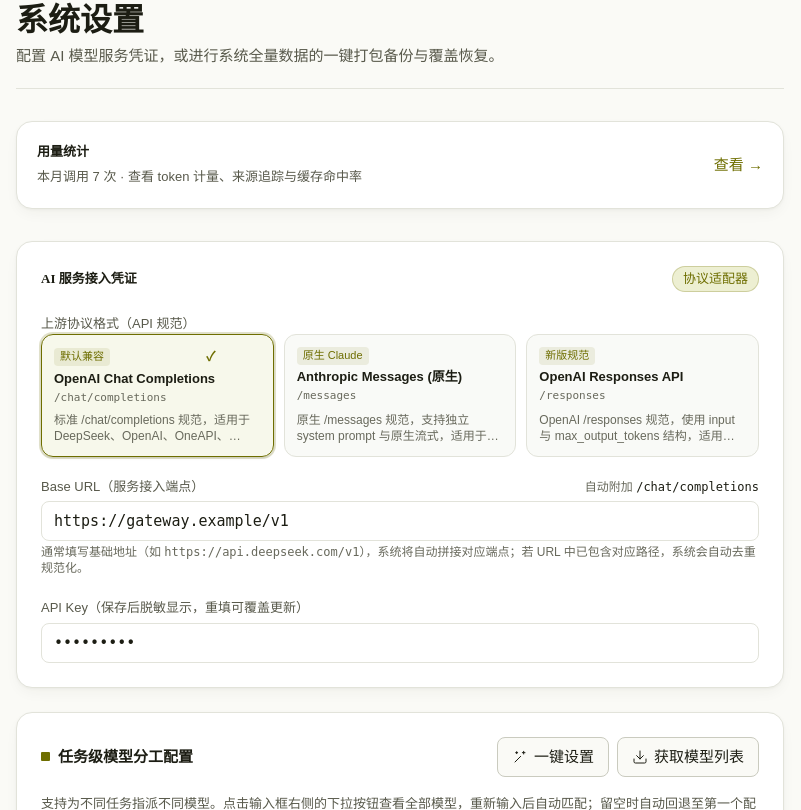
it: 设置页配置与连接行为 › 模型列表和连接测试使用当前未保存的配置，候选选择和连接反馈仍可用
This screenshot has width=801, height=810.
Expected: the button "获取模型列表" is shown, left=617, top=737, right=759, bottom=777
Type "unsaved-api-key" into the password field with placeholder "sk-…".
click(400, 643); type("unsaved-api-key")  # box left=41, top=623, right=759, bottom=663
Click the button "获取模型列表".
click(688, 757)  # box left=617, top=737, right=759, bottom=777
(page scrolled)
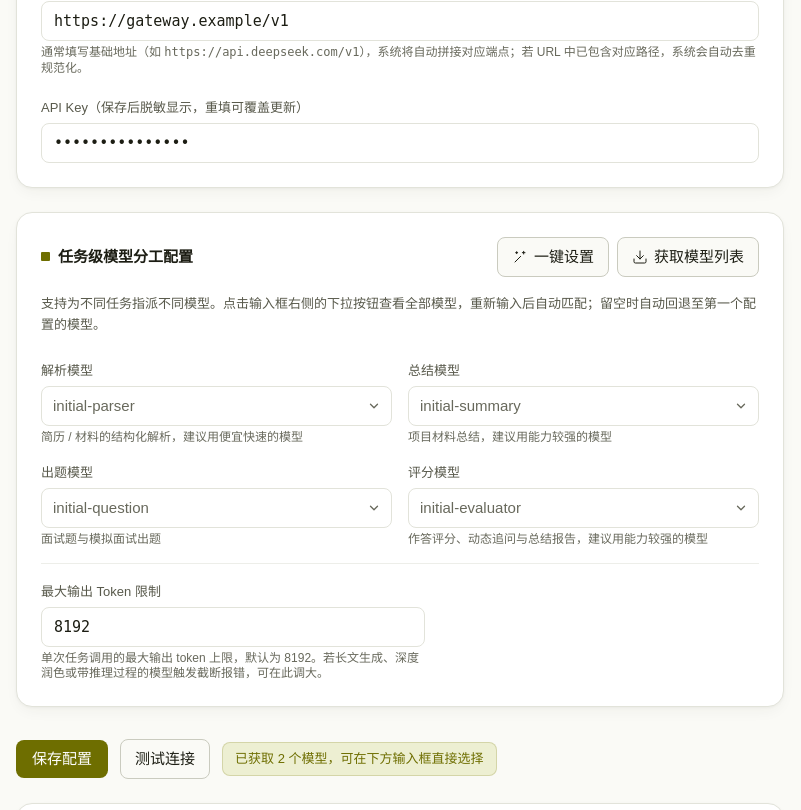
Now the text "已获取 2 个模型，可在下方输入框直接选择" is shown, box left=222, top=742, right=496, bottom=776
Click the button named "展开全部候选" in the row of "initial-parser".
click(374, 406)  # box left=356, top=386, right=392, bottom=426
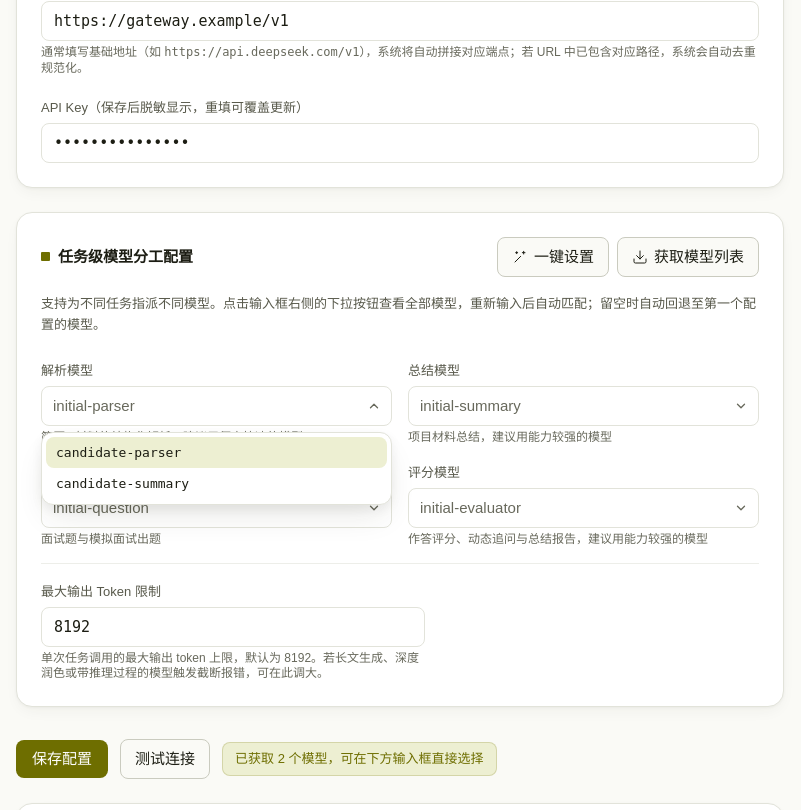
Click the option "candidate-parser".
click(119, 452)  # box left=46, top=437, right=387, bottom=468
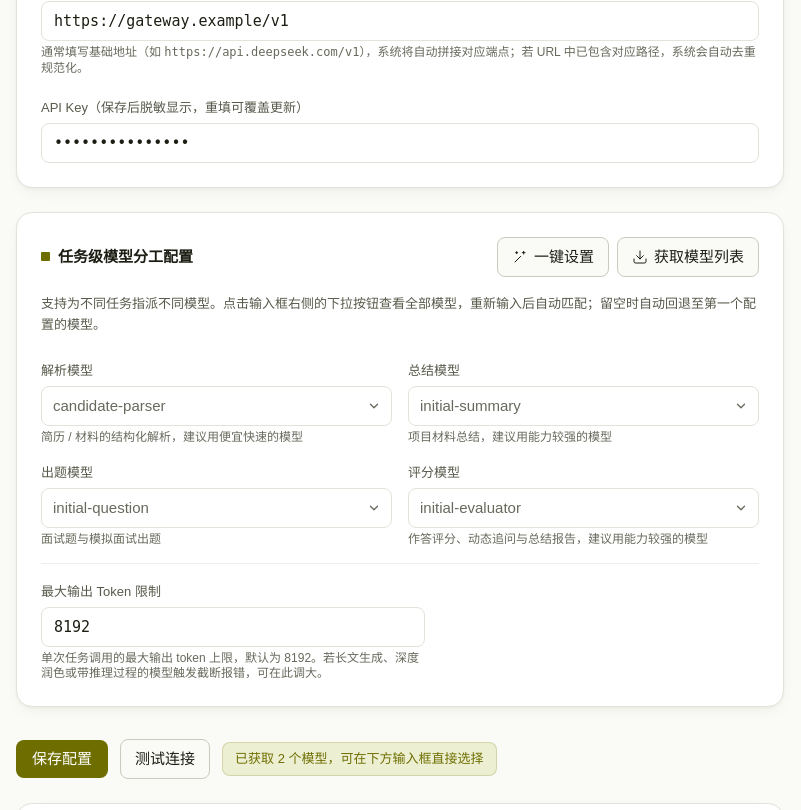
Expected: the dropdown labelled "解析模型 candidate-parser 简历 / 材料的结构化解析，建议用便宜快速的模型" is empty, left=41, top=386, right=392, bottom=426
Now the text "candidate-parser" is shown, box left=53, top=395, right=166, bottom=417
// 重新打开下拉：当前已选模型带 ✔；输入过滤时打勾保持在已选项上
Click the button named "展开全部候选" in the row of "candidate-parser".
click(374, 406)  # box left=356, top=386, right=392, bottom=426
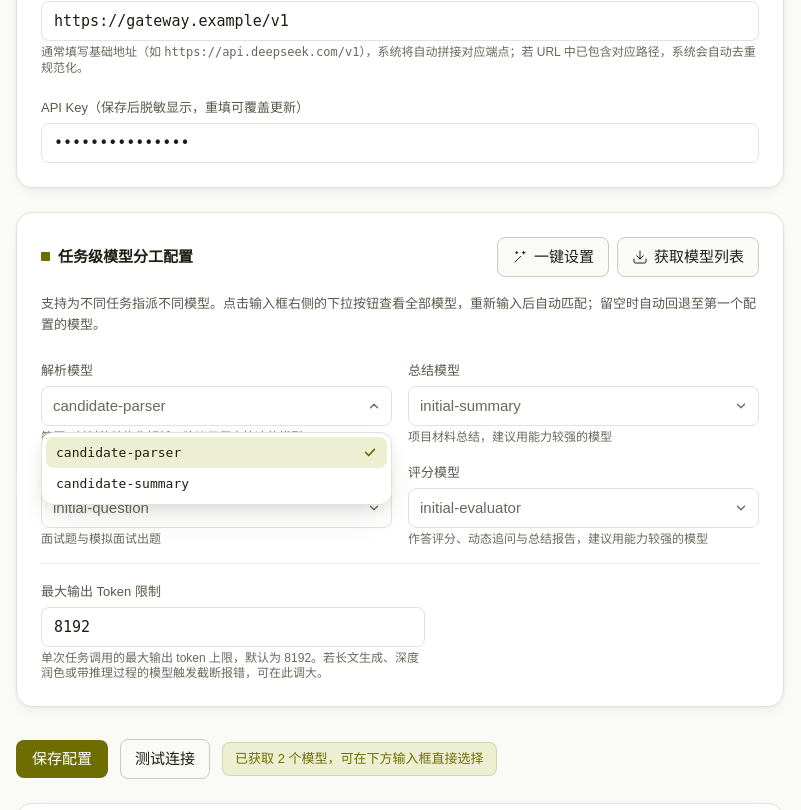
Now the option "candidate-parser" is shown, box left=46, top=437, right=387, bottom=468
Type "cand" into the dropdown named "候选模型".
click(216, 406); type("cand")  # box left=41, top=386, right=392, bottom=426
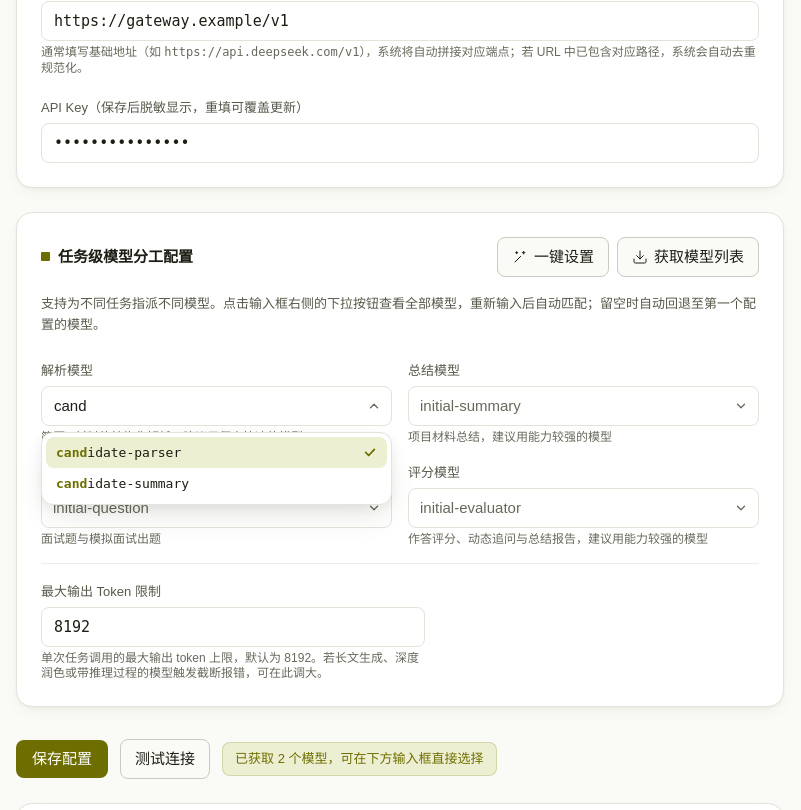
Now the option "candidate-parser" is shown, box left=46, top=437, right=387, bottom=468
Now the option "candidate-summary" is shown, box left=46, top=468, right=387, bottom=500
Click the button "测试连接".
click(165, 759)  # box left=120, top=739, right=210, bottom=779
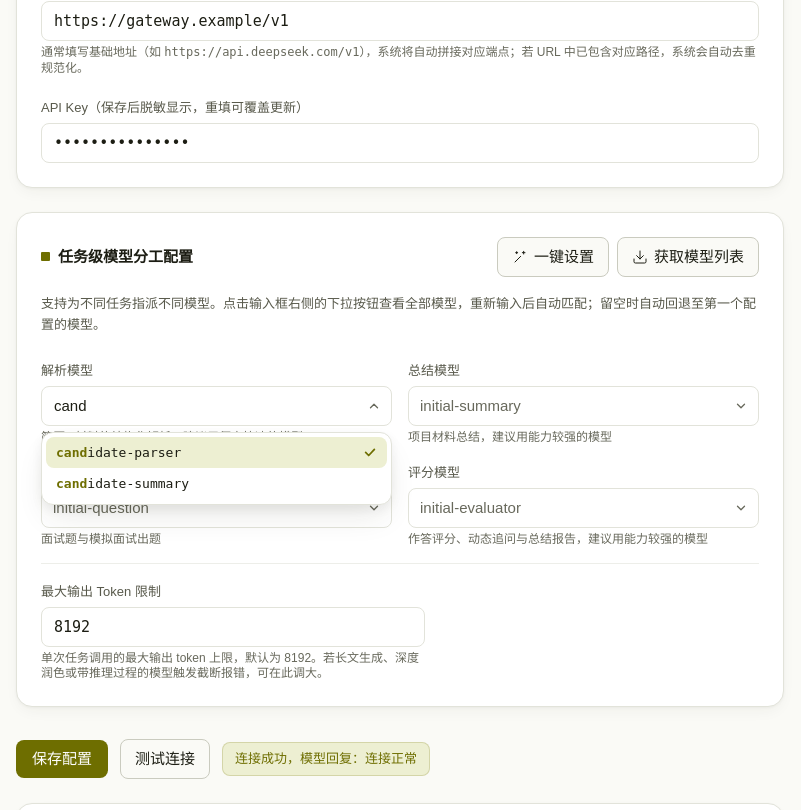
Now the text "连接成功，模型回复：连接正常" is shown, box left=222, top=742, right=430, bottom=776
